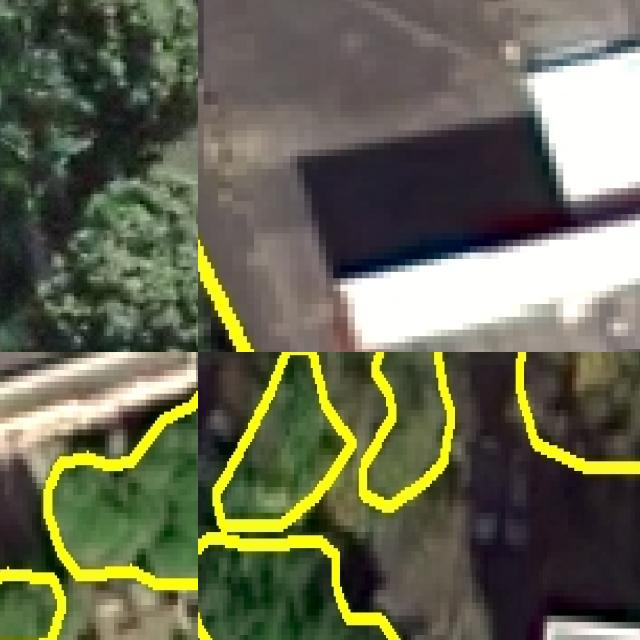trees: (1, 1, 199, 353), (199, 353, 398, 640), (47, 392, 199, 588), (519, 353, 640, 469), (362, 353, 452, 507), (1, 570, 63, 640)
